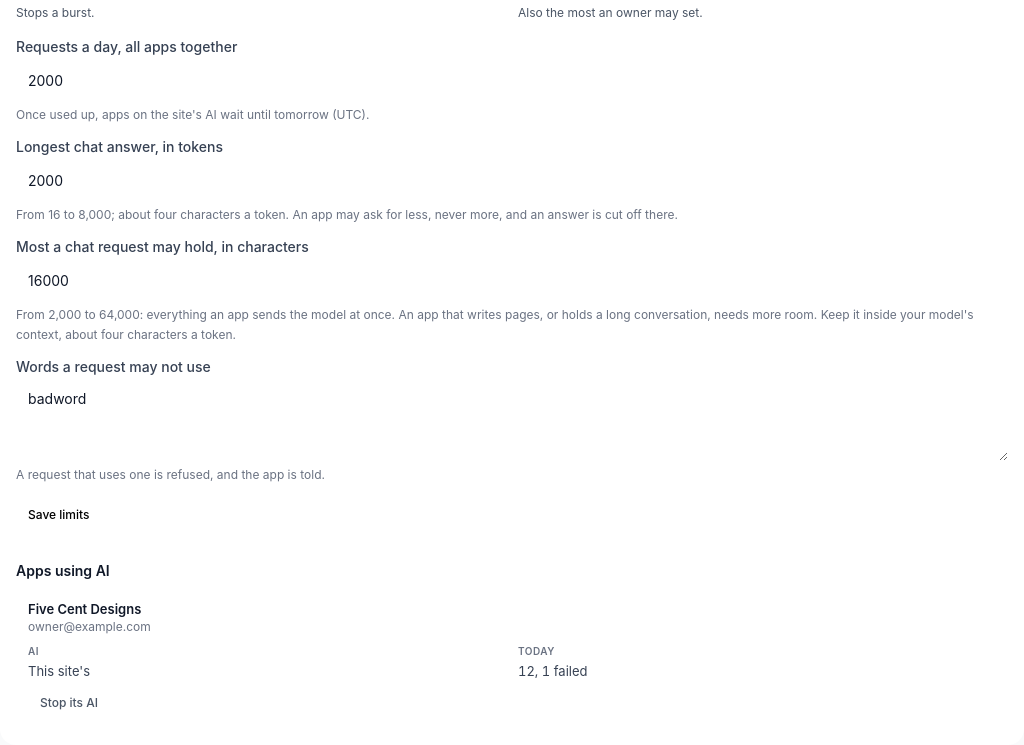
Test: stops one app's AI with a reason its owner sees
(page scrolled)
What coordinates should you click on to do the following:
click the button "Stop its AI"
I would click on:
 (69, 703)
Its box is [28, 687, 110, 719].
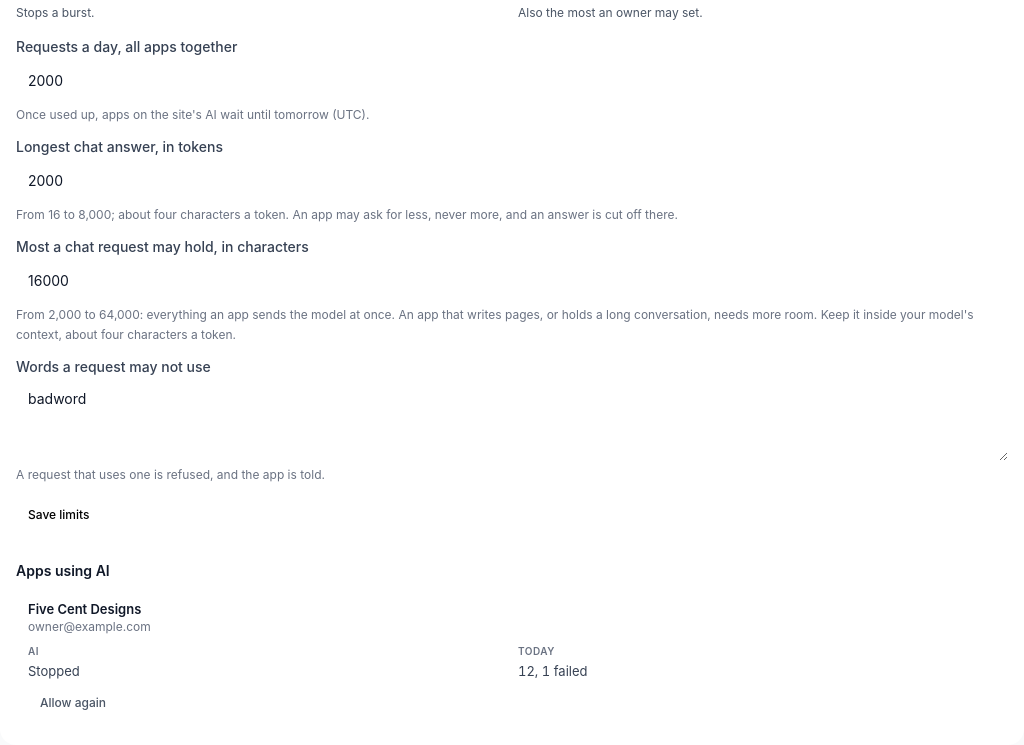
Expected: the button "Allow again" is shown, [28, 687, 118, 719]
Expected: the text "Stopped" is shown, [28, 663, 80, 679]
